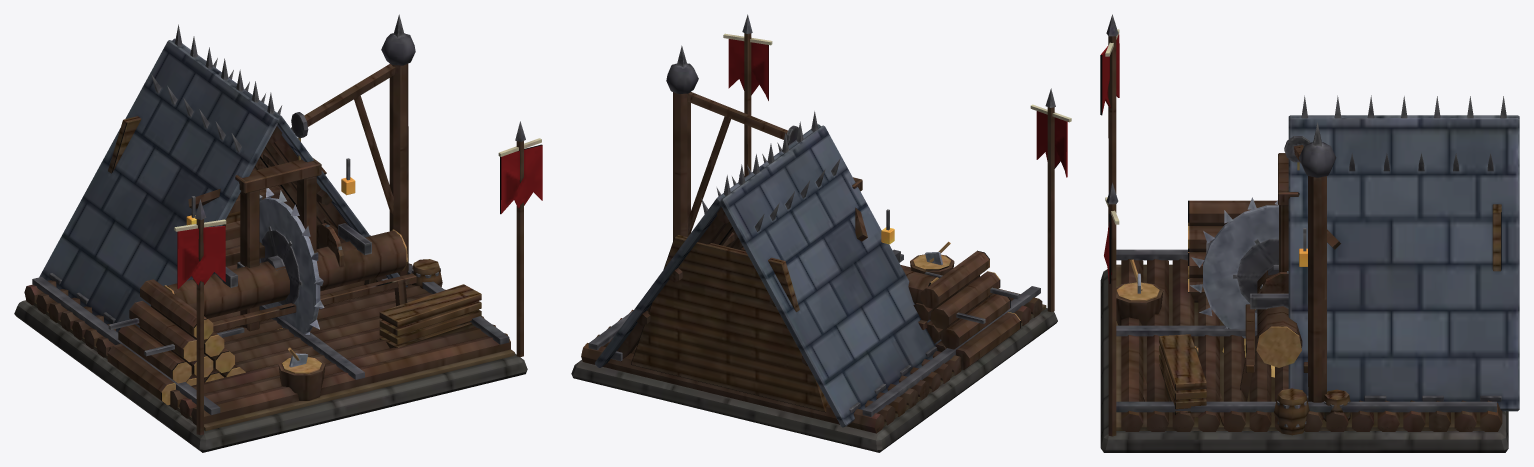
Rendered from orc_lumber_mill.glb.
3 views of the same model, side by side, from view 1: azimuth 30°, elevation 25°; view 2: azimuth 150°, elevation 25°; view 3: azimuth 270°, elevation 25° (orthographic). The views are drawn at different scales.
Visible parts, largest first — view 1: Static_Mesh, Anim_SawBlade, Anim_Banners; view 2: Static_Mesh, Anim_Banners; view 3: Static_Mesh, Anim_SawBlade, Anim_Banners.
Boxes of the visible parts, left/top/right/bottom form: Static_Mesh: left=14, top=14, right=541, bottom=452; Anim_SawBlade: left=259, top=188, right=324, bottom=336; Anim_Banners: left=177, top=144, right=542, bottom=288; Static_Mesh: left=571, top=14, right=1071, bottom=452; Anim_Banners: left=728, top=39, right=1067, bottom=177; Static_Mesh: left=1100, top=14, right=1519, bottom=452; Anim_SawBlade: left=1190, top=197, right=1278, bottom=338; Anim_Banners: left=1100, top=34, right=1119, bottom=283.
Size of the model in its own units: 7.09 by 5.45 by 6.54.
2 materials, 2 textured.
